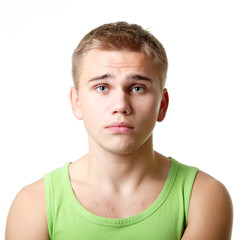teen: (67, 17, 177, 158)
